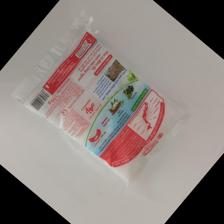Ajinomoto: (22, 31, 187, 195)
